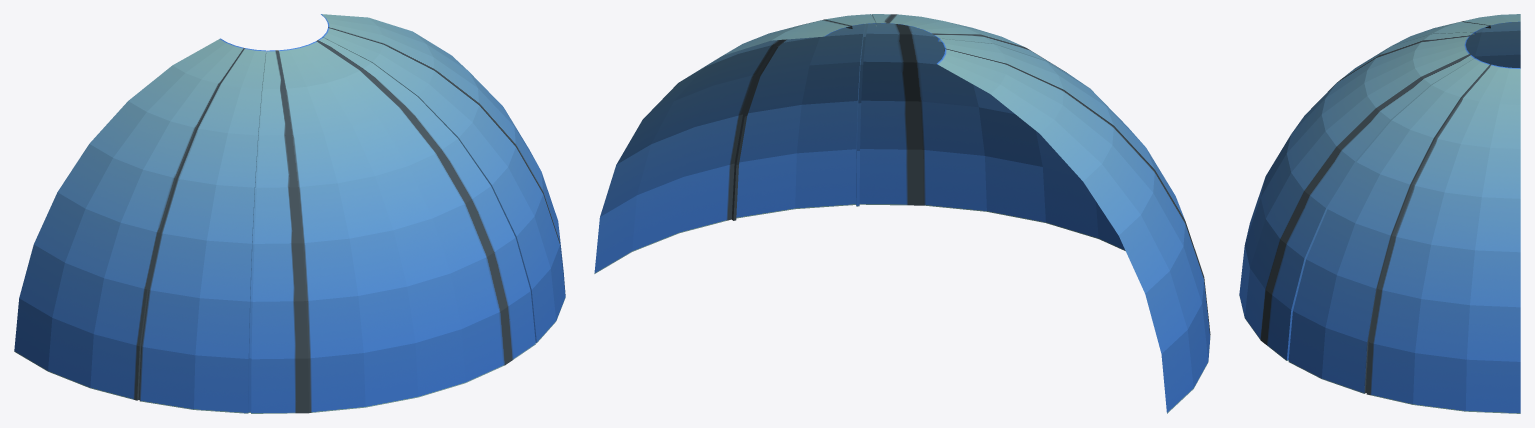
The model's file is Sky2.fbx.
3 views of the same model, side by side, from view 1: azimuth 30°, elevation 25°; view 2: azimuth 150°, elevation 25°; view 3: azimuth 270°, elevation 25° (orthographic). The views are drawn at different scales.
Visible parts, largest first — view 1: Sphere; view 2: Sphere; view 3: Sphere.
Boxes of the visible parts, x1=… form: Sphere: x1=14, y1=14, x2=565, y2=413; Sphere: x1=594, y1=14, x2=1210, y2=413; Sphere: x1=1239, y1=14, x2=1520, y2=413.
Size of the model in its own units: 2710 by 1355 by 1330.
